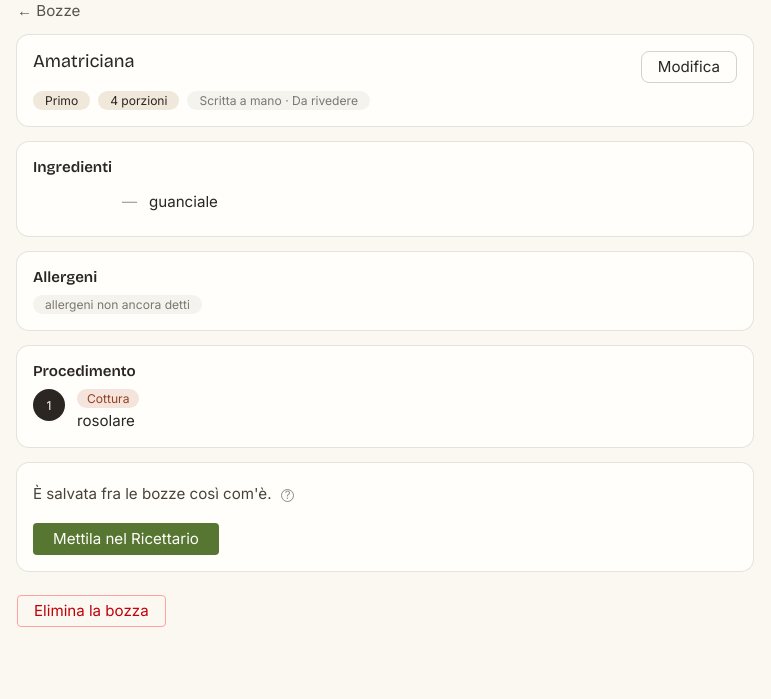
it: i buchi si vedono prima della conferma › 🔴 una bozza coi soli ingredienti NON collegati può diventare ricetta (25/10/2026)
Click the button "Mettila nel Ricettario": (126, 539) top-left (33, 523), bottom-right (219, 555)
(page scrolled)
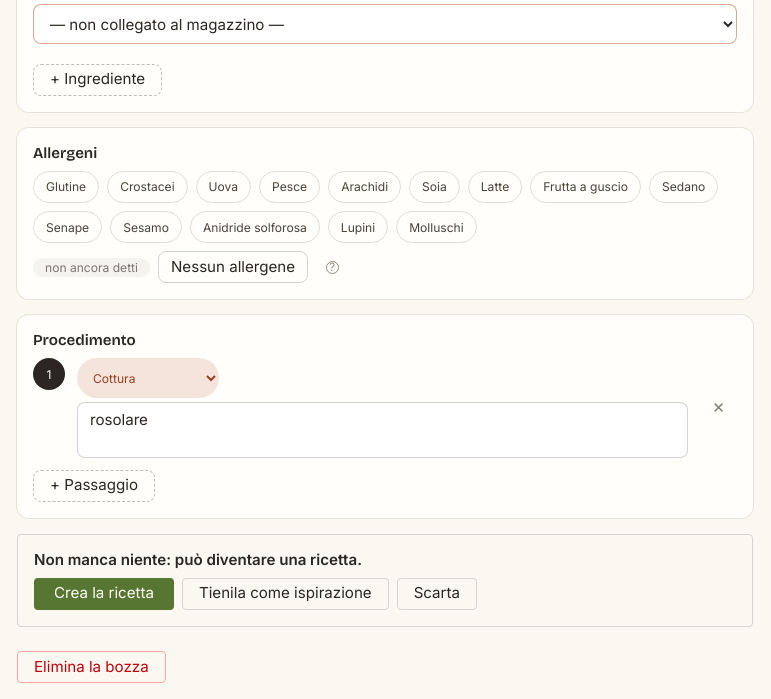
Now the heading "Non manca niente: può diventare una ricetta." is shown, box top-left (34, 550), bottom-right (362, 569)
Now the button "Crea la ricetta" is enabled, box top-left (34, 578), bottom-right (174, 610)
